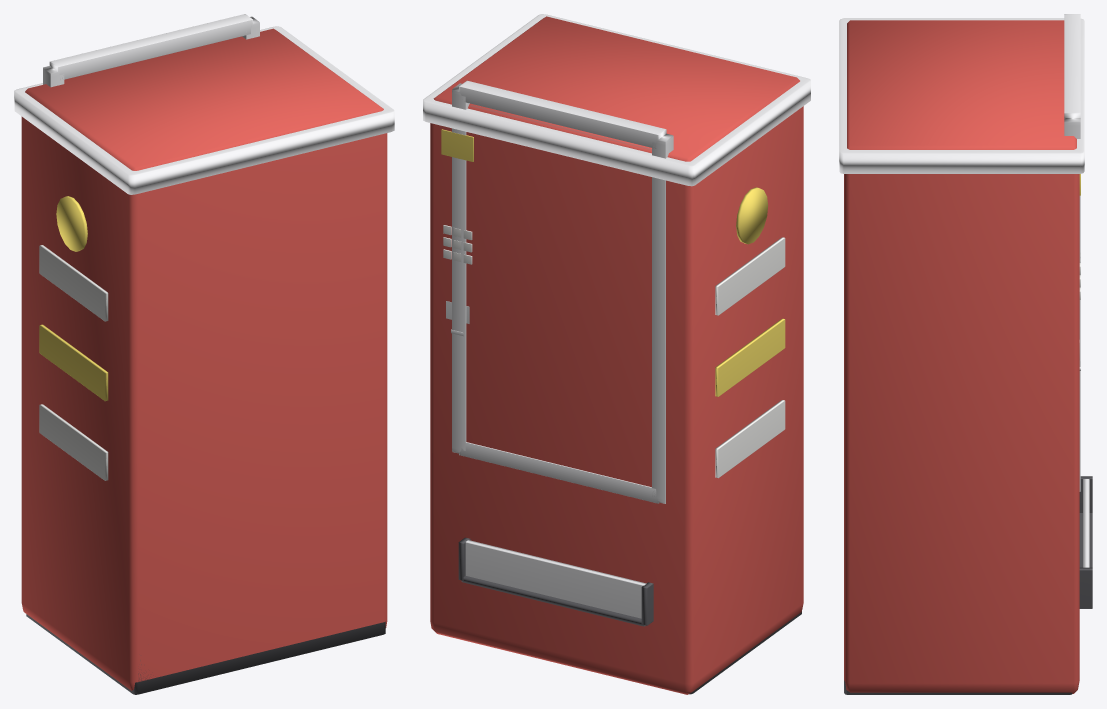
Rendered from SnackVendor_model.glb.
The picture shows the model from 3 angles, left to right: view 1: azimuth 30°, elevation 25°; view 2: azimuth 150°, elevation 25°; view 3: azimuth 270°, elevation 25°; orthographic projection. The views are drawn at different scales.
Parts seen in each view (by area): view 1: SnackVendor_Body, SnackVendor_TopTrim, SnackVendor_DoorFrame_Top, SnackVendor_Plinth, SnackVendor_SideStripe_0, SnackVendor_SideStripe_1, SnackVendor_SideStripe_2, SnackVendor_SideLogoDot; view 2: SnackVendor_Body, SnackVendor_TopTrim, SnackVendor_Tray_Front, SnackVendor_DoorFrame_L, SnackVendor_DoorFrame_Top, SnackVendor_DoorFrame_R, SnackVendor_DoorFrame_Bottom, SnackVendor_SideStripe_1, SnackVendor_SideStripe_2, SnackVendor_SideStripe_0, SnackVendor_Tray_Bottom, SnackVendor_SideLogoDot (+1 smaller); view 3: SnackVendor_Body, SnackVendor_TopTrim, SnackVendor_DoorFrame_Top, SnackVendor_DoorFrame_R, SnackVendor_Plinth, SnackVendor_Tray_Front, SnackVendor_Tray_R, SnackVendor_Tray_Bottom.
Part boxes in pixels (x1=…): SnackVendor_Body: x1=21, y1=28, x2=387, y2=690; SnackVendor_TopTrim: x1=14, y1=26, x2=394, y2=194; SnackVendor_DoorFrame_Top: x1=49, y1=14, x2=252, y2=79; SnackVendor_Plinth: x1=26, y1=614, x2=385, y2=694; SnackVendor_SideStripe_0: x1=39, y1=404, x2=108, y2=480; SnackVendor_SideStripe_1: x1=39, y1=324, x2=108, y2=401; SnackVendor_SideStripe_2: x1=39, y1=245, x2=108, y2=321; SnackVendor_SideLogoDot: x1=56, y1=196, x2=87, y2=251; SnackVendor_Body: x1=430, y1=16, x2=803, y2=694; SnackVendor_TopTrim: x1=423, y1=14, x2=810, y2=186; SnackVendor_Tray_Front: x1=465, y1=540, x2=646, y2=618; SnackVendor_DoorFrame_L: x1=652, y1=133, x2=673, y2=503; SnackVendor_DoorFrame_Top: x1=459, y1=80, x2=666, y2=148; SnackVendor_DoorFrame_R: x1=452, y1=83, x2=469, y2=453; SnackVendor_DoorFrame_Bottom: x1=459, y1=442, x2=658, y2=503; SnackVendor_SideStripe_1: x1=715, y1=318, x2=785, y2=396; SnackVendor_SideStripe_2: x1=715, y1=237, x2=785, y2=315; SnackVendor_SideStripe_0: x1=715, y1=400, x2=785, y2=478; SnackVendor_Tray_Bottom: x1=461, y1=576, x2=645, y2=626; SnackVendor_SideLogoDot: x1=736, y1=187, x2=768, y2=244; SnackVendor_Body: x1=844, y1=20, x2=1079, y2=693; SnackVendor_TopTrim: x1=839, y1=18, x2=1084, y2=173; SnackVendor_DoorFrame_Top: x1=1064, y1=14, x2=1080, y2=117; SnackVendor_DoorFrame_R: x1=1064, y1=118, x2=1080, y2=491; SnackVendor_Plinth: x1=844, y1=680, x2=1072, y2=694; SnackVendor_Tray_Front: x1=1083, y1=479, x2=1089, y2=567; SnackVendor_Tray_R: x1=1079, y1=567, x2=1092, y2=608; SnackVendor_Tray_Bottom: x1=1079, y1=513, x2=1092, y2=608.
Bounding box in the file's own units: 0.983 × 1.91 × 0.775.
